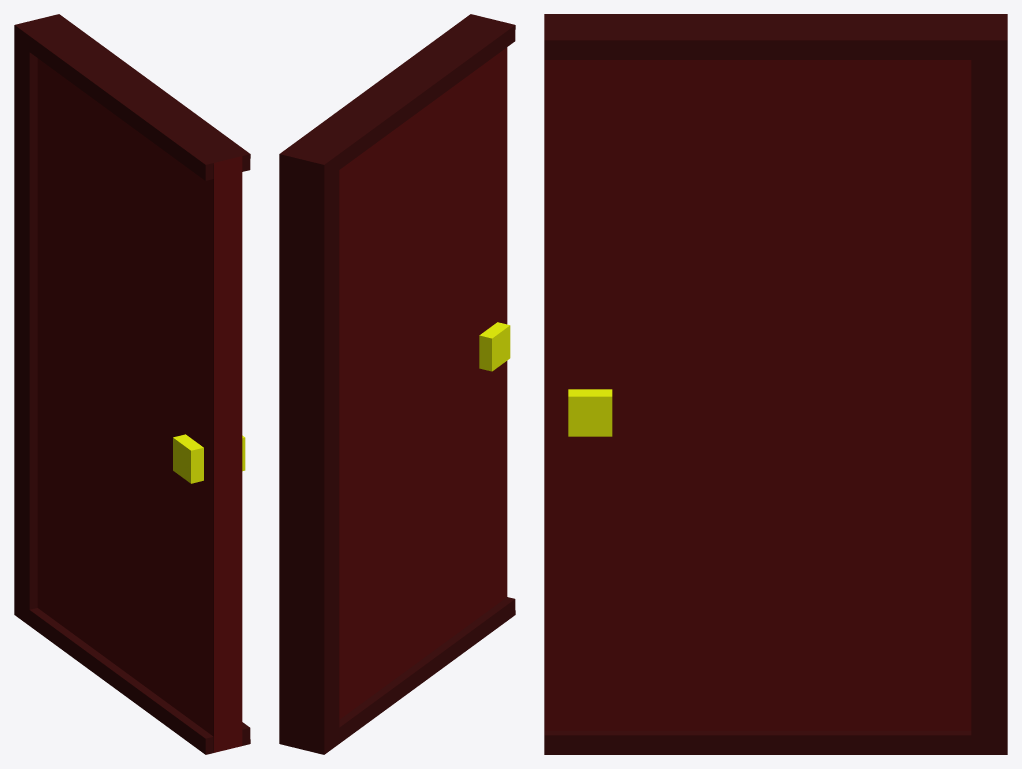
Rendered from door.obj.
3 views of the same model, side by side, from view 1: azimuth 30°, elevation 25°; view 2: azimuth 150°, elevation 25°; view 3: azimuth 270°, elevation 25° (orthographic). The views are drawn at different scales.
Visible parts, largest first — view 1: pCube9; view 2: pCube9; view 3: pCube9.
Part boxes in pixels (box(x1,y1,x2,y2)): pCube9: box(14, 14, 250, 754); pCube9: box(279, 14, 515, 754); pCube9: box(544, 14, 1007, 754).
Size of the model in its own units: 0.5692 by 5.91 by 3.48.
1 material, 1 textured.
